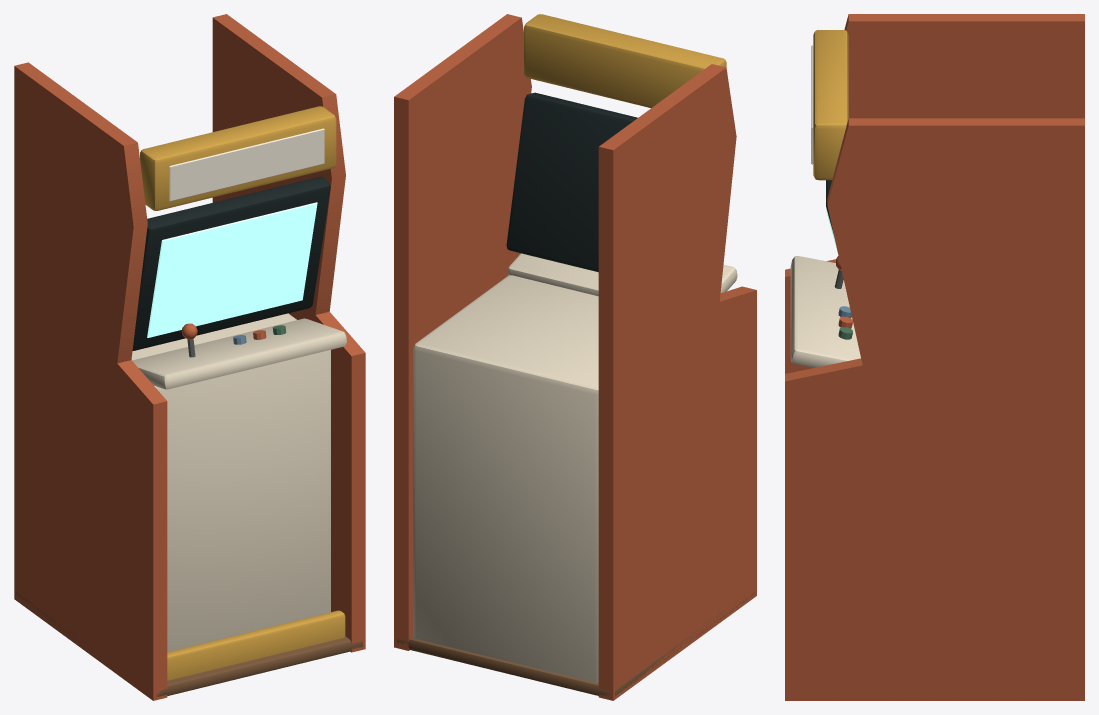
File: arcade_cabinet.glb
The picture shows the model from 3 angles, left to right: view 1: azimuth 30°, elevation 25°; view 2: azimuth 150°, elevation 25°; view 3: azimuth 270°, elevation 25°; orthographic projection. The views are drawn at different scales.
Parts seen in each view (by area): view 1: FURN-arcade_cabinet; view 2: FURN-arcade_cabinet; view 3: FURN-arcade_cabinet.
Part boxes in pixels (box(x1,y1,x2,y2)): FURN-arcade_cabinet: box(14, 14, 365, 700); FURN-arcade_cabinet: box(394, 14, 756, 700); FURN-arcade_cabinet: box(785, 14, 1084, 700).
Bounding box in the file's own units: 0.75 × 1.8 × 0.85.
